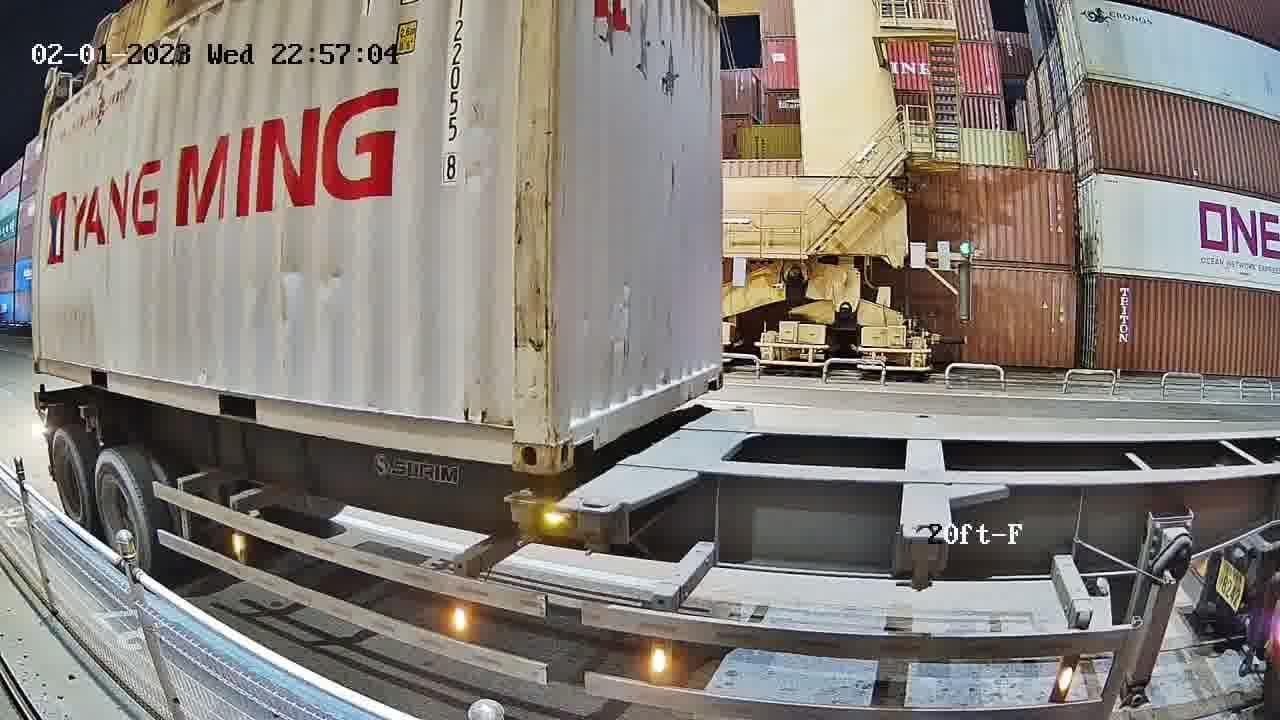Chassis: (575, 408, 751, 510)
Cone: (575, 496, 622, 559), (502, 486, 548, 547)
Hole_L: (549, 386, 602, 474)
Hole_R: (475, 402, 549, 475), (702, 352, 725, 393)
Tire: (93, 452, 156, 580), (49, 427, 95, 543)
